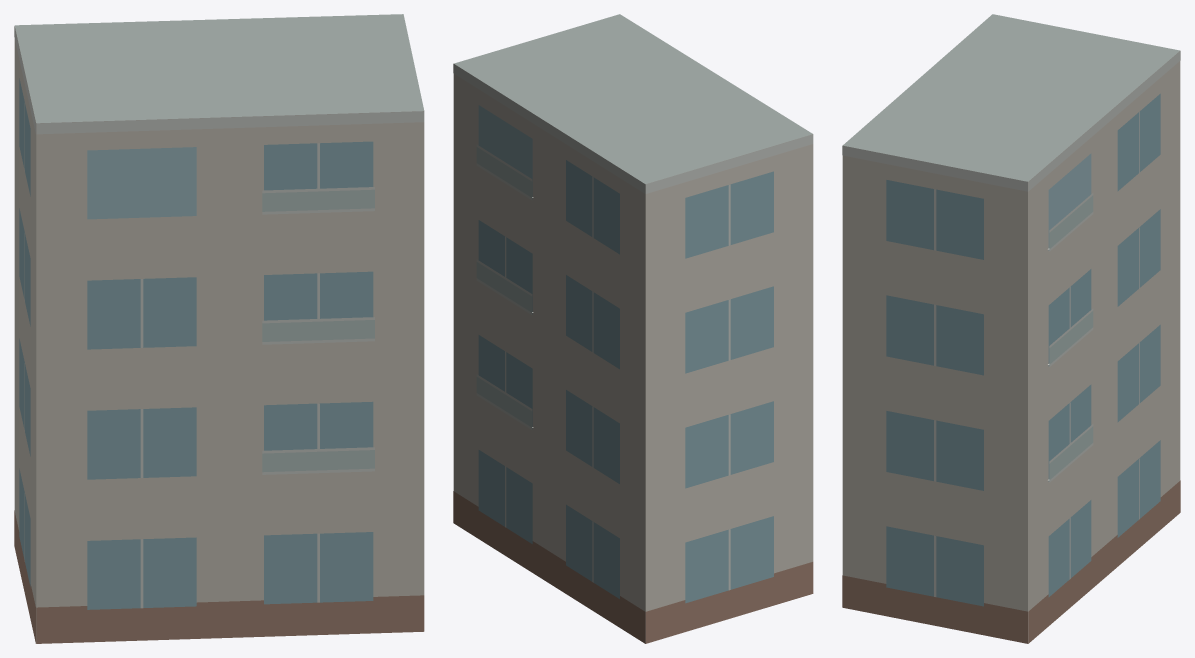
File: survey-upis-32998003.glb
3 views of the same model, side by side, from view 1: azimuth 30°, elevation 25°; view 2: azimuth 150°, elevation 25°; view 3: azimuth 270°, elevation 25° (orthographic). The views are drawn at different scales.
Visible parts, largest first — view 1: survey-upis-32998003.tmp; view 2: survey-upis-32998003.tmp; view 3: survey-upis-32998003.tmp.
Part boxes in pixels (x1,y1,x2,y2): survey-upis-32998003.tmp: (14,14,424,643); survey-upis-32998003.tmp: (453,14,813,643); survey-upis-32998003.tmp: (842,14,1180,643).
Size of the model in its own units: 8.89 by 11.4 by 7.57.
